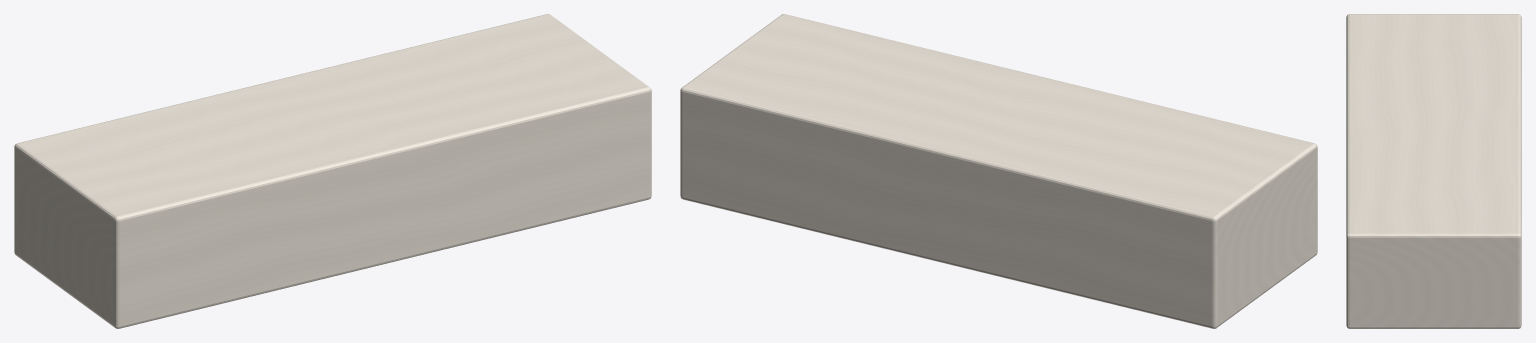
File: ivory.glb
The picture shows the model from 3 angles, left to right: view 1: azimuth 30°, elevation 25°; view 2: azimuth 150°, elevation 25°; view 3: azimuth 270°, elevation 25°; orthographic projection. The views are drawn at different scales.
Parts seen in each view (by area): view 1: Block_L01_S1; view 2: Block_L01_S1; view 3: Block_L01_S1.
Part boxes in pixels (x1=…): Block_L01_S1: x1=14, y1=14, x2=651, y2=328; Block_L01_S1: x1=680, y1=14, x2=1317, y2=328; Block_L01_S1: x1=1346, y1=14, x2=1521, y2=328.
Bounding box in the file's own units: 0.075 × 0.015 × 0.025.
Materials: 1 (1 with a texture image).
